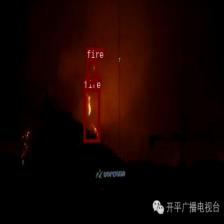fire: (83, 88, 100, 141), (86, 58, 97, 84)
